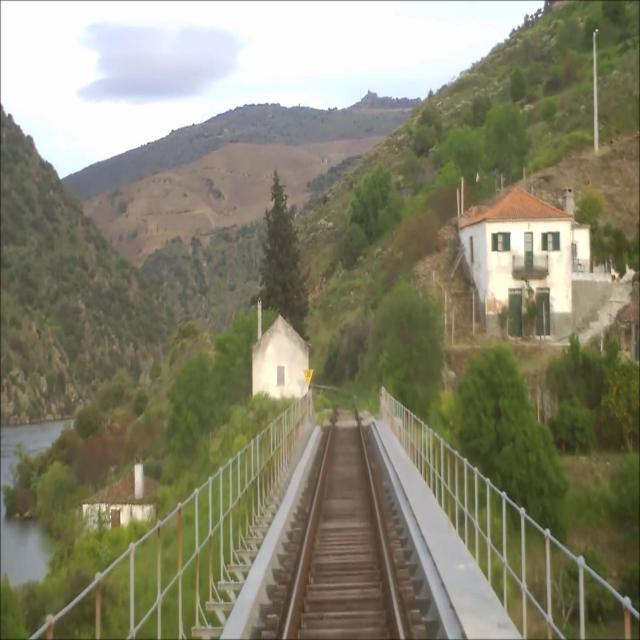rail-track: (288, 393, 399, 639)
